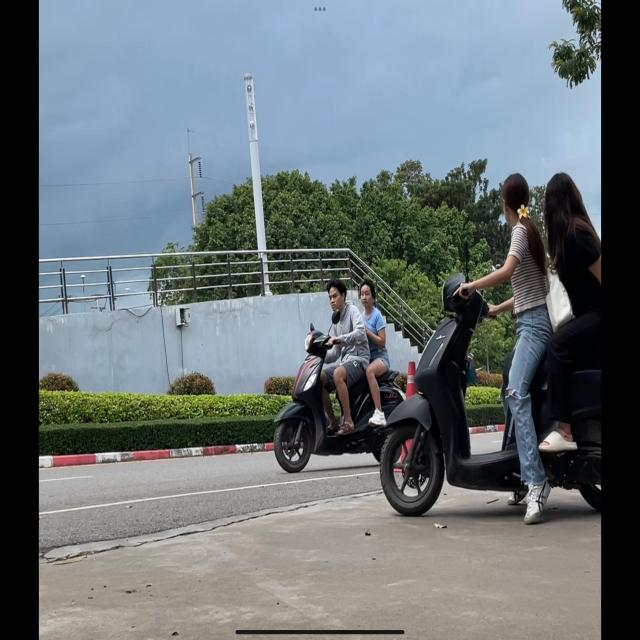seatbelt: (544, 172, 576, 228), (499, 170, 531, 224), (325, 279, 348, 312), (358, 279, 376, 308)
